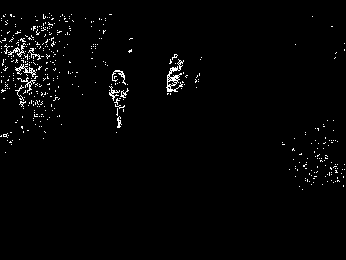person: (108, 67, 129, 130)
